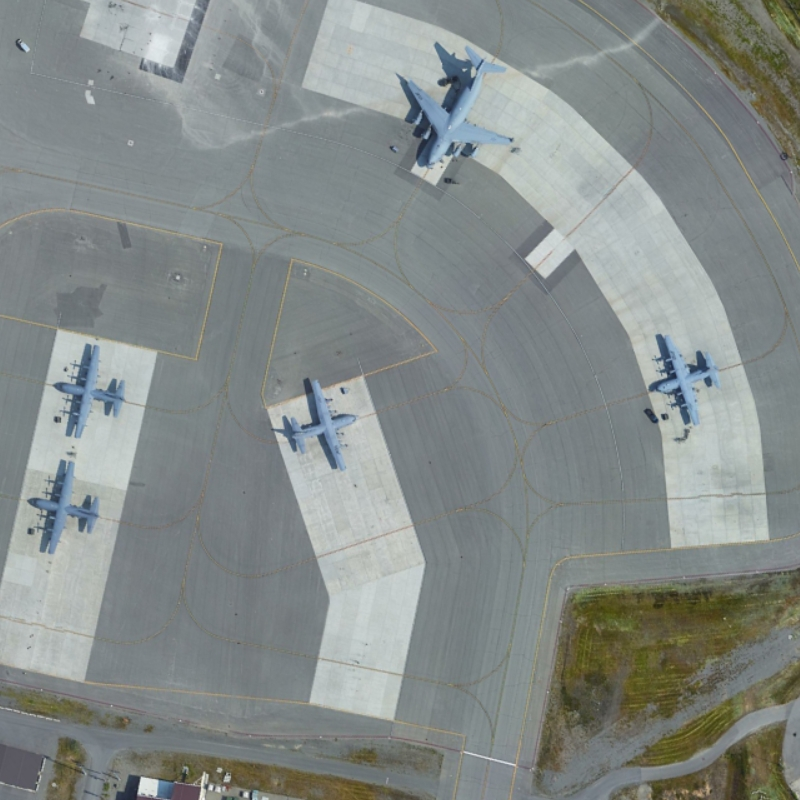A2: (45, 333, 132, 442), (276, 375, 364, 475), (25, 454, 107, 561), (647, 326, 728, 432)
A3: (394, 34, 520, 174)
